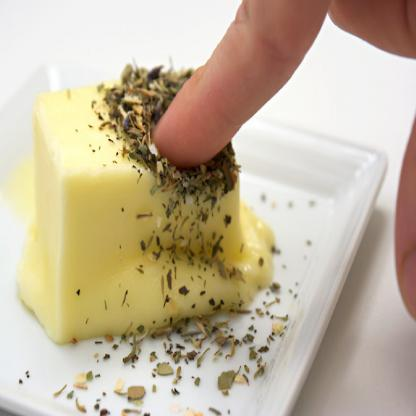butter: (20, 68, 268, 336)
